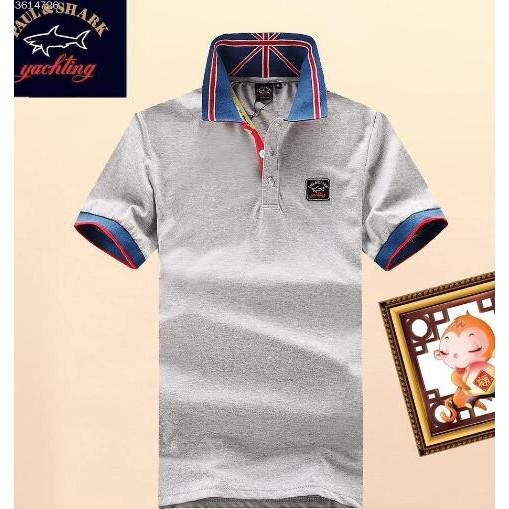Tops: (90, 42, 448, 503)
